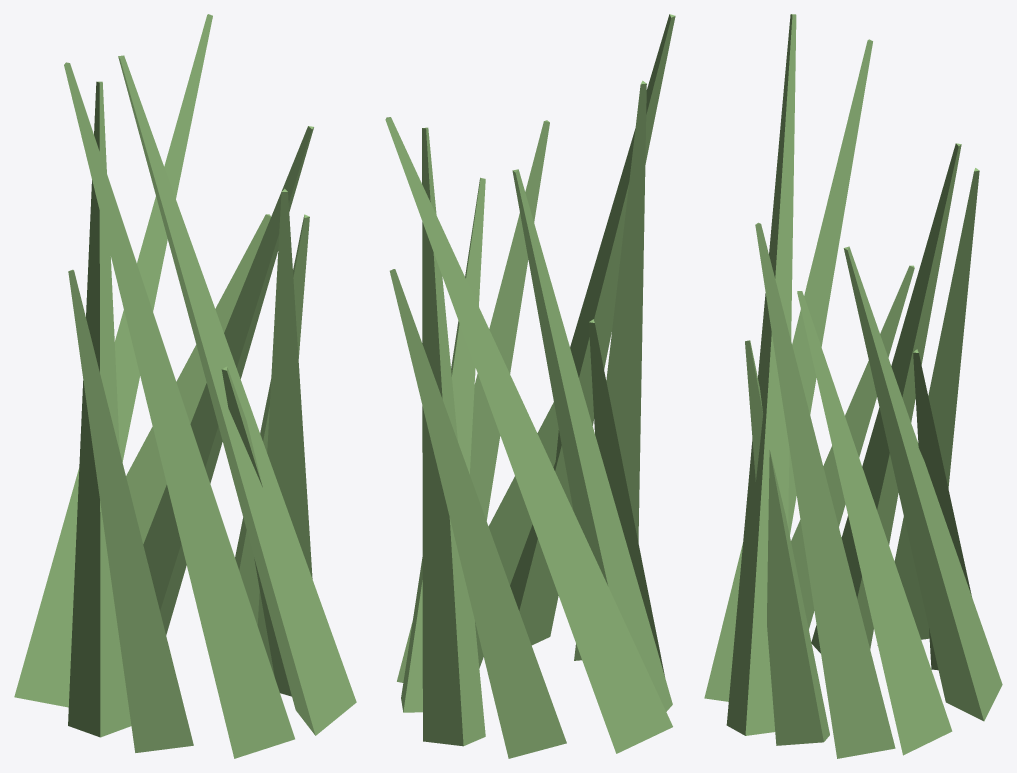
Rendered from DET-grass-00.glb.
3 renders of one model, left to right at view 1: azimuth 30°, elevation 25°; view 2: azimuth 150°, elevation 25°; view 3: azimuth 270°, elevation 25°, orthographic. The views are drawn at different scales.
Parts seen in each view (by area): view 1: DET-grass-00; view 2: DET-grass-00; view 3: DET-grass-00.
Boxes of the visible parts, x1=… form: DET-grass-00: x1=14, y1=14, x2=356, y2=758; DET-grass-00: x1=385, y1=14, x2=675, y2=758; DET-grass-00: x1=704, y1=14, x2=1002, y2=758.
Bounding box in the file's own units: 0.3517 × 0.828 × 0.347.
